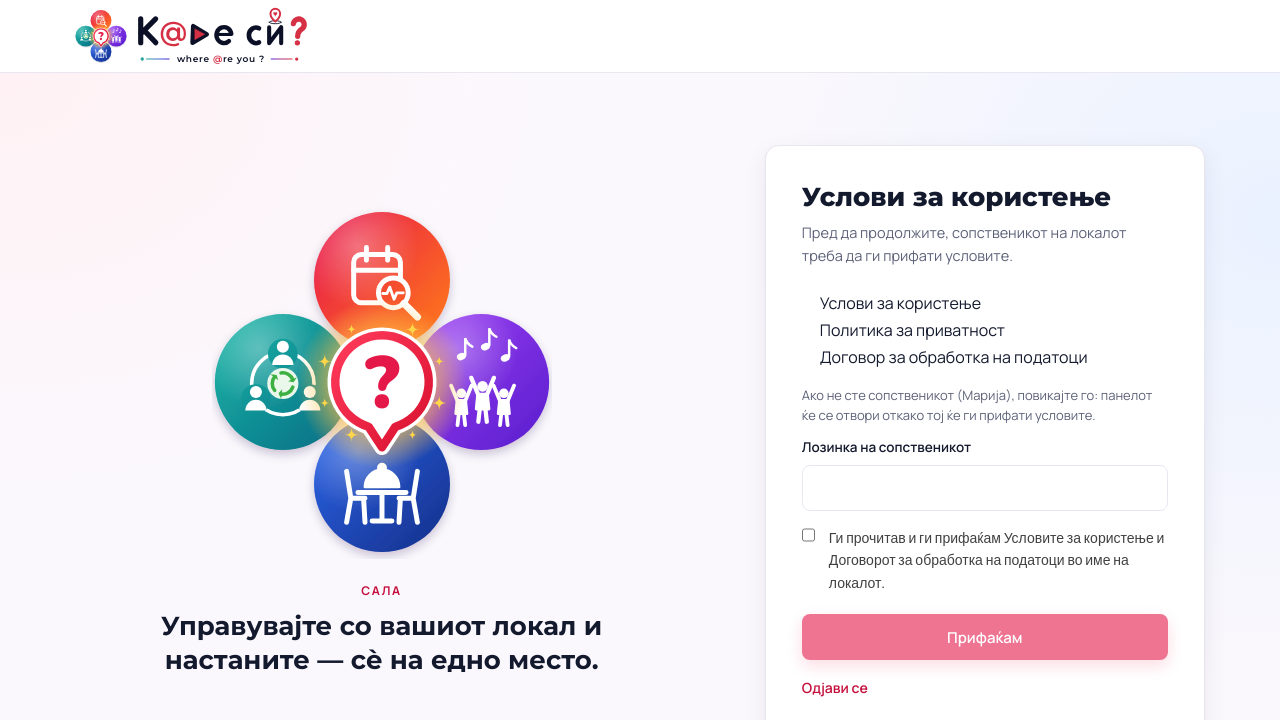
Test case: TermsAcceptance › links the three documents and needs the checkbox
Expected: the heading "Услови за користење" is shown, [802, 181, 1111, 213]
Expected: the text "Ако не сте сопственикот (Марија)" is shown, [802, 386, 1152, 424]
Click the checkbox at (808, 535), box [802, 527, 815, 543]
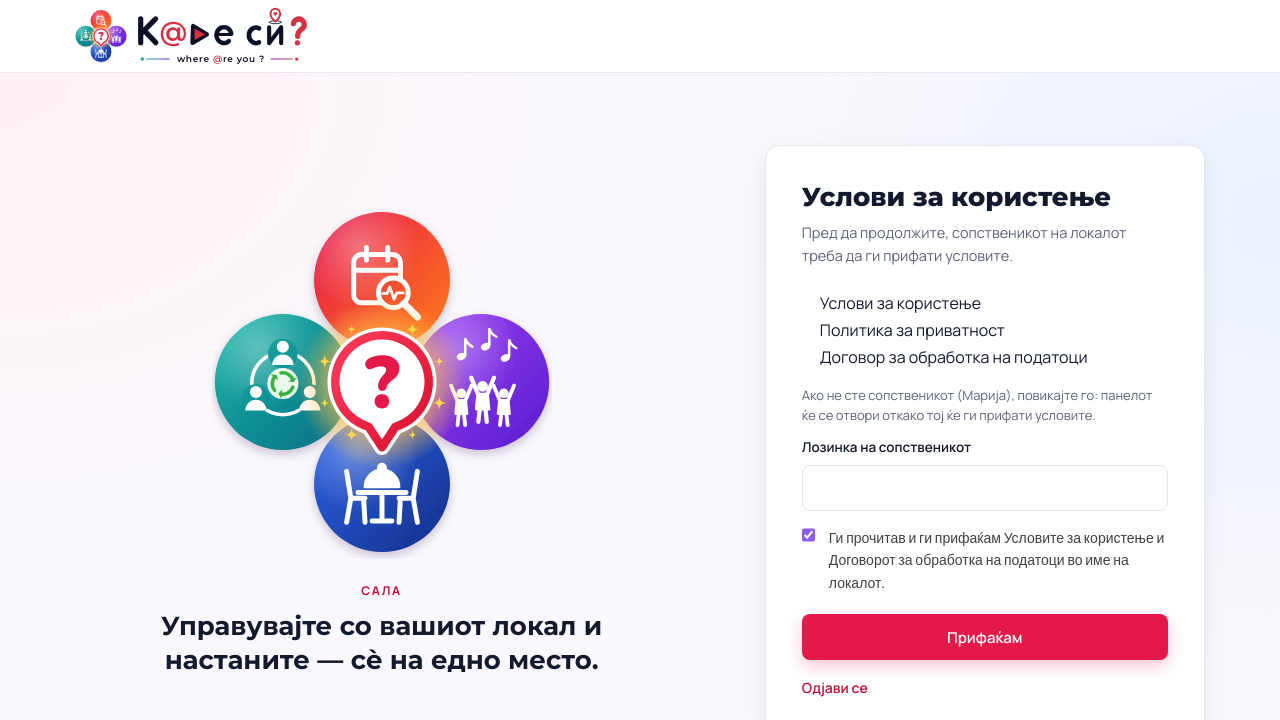
Expected: the button "Прифаќам" is enabled, [802, 614, 1168, 660]
